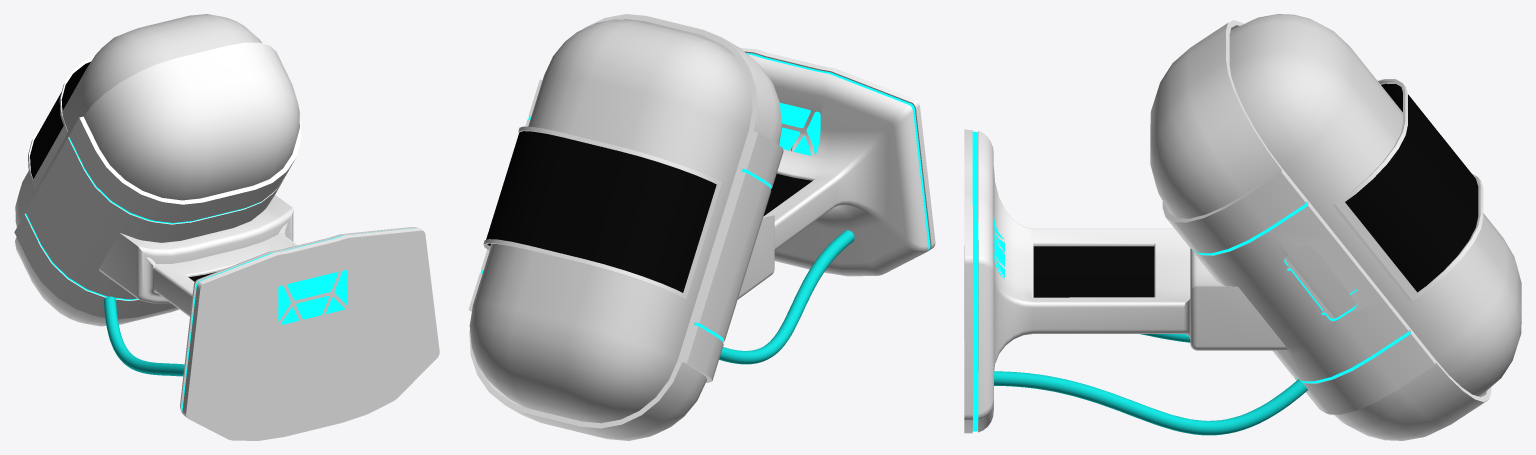
The model's file is rfs_deepsleep_v4.fbx.
3 renders of one model, left to right at view 1: azimuth 30°, elevation 25°; view 2: azimuth 150°, elevation 25°; view 3: azimuth 270°, elevation 25°, orthographic. The views are drawn at different scales.
Parts seen in each view (by area): view 1: rfs_deepsleep_v4; view 2: rfs_deepsleep_v4; view 3: rfs_deepsleep_v4.
Part boxes in pixels (box(x1,y1,x2,y2)): rfs_deepsleep_v4: box(14, 14, 439, 440); rfs_deepsleep_v4: box(468, 14, 935, 440); rfs_deepsleep_v4: box(964, 14, 1521, 440).
Bounding box in the file's own units: 4.35 × 5.26 × 7.
